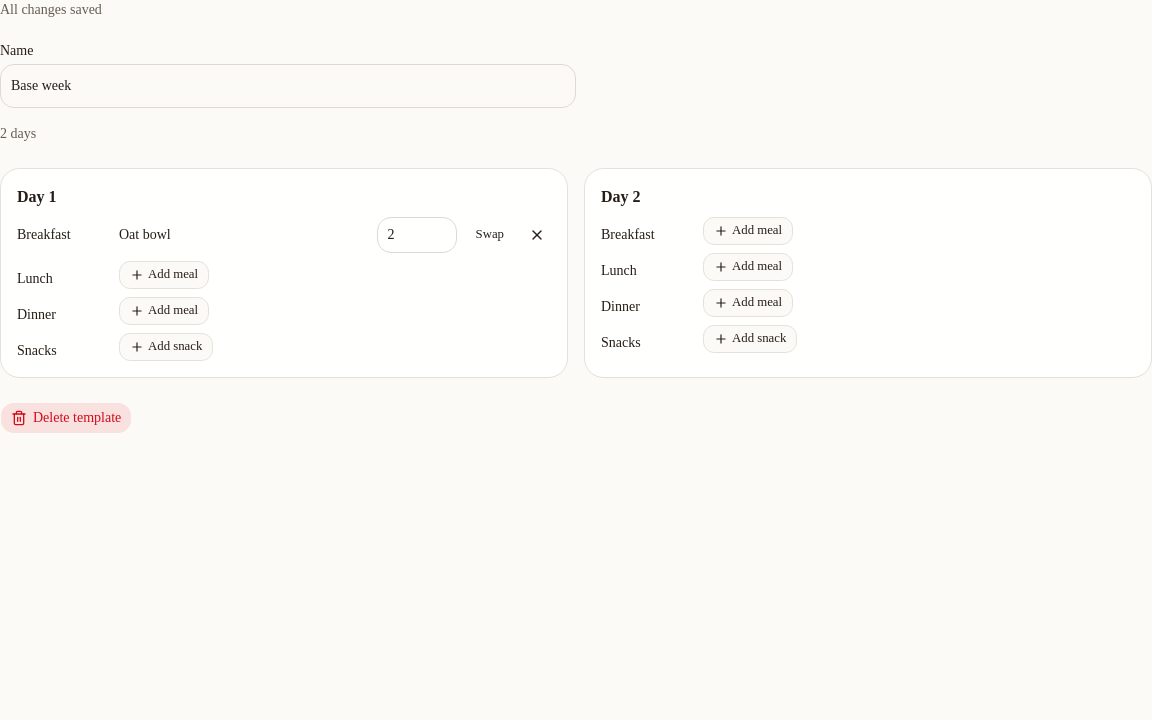
Test: TemplateEditor › lets a day hold several snacks, each with its own portion
What coordinates should you click on to do the following:
click the button with aria-label "Add snack to day 1"
I would click on:
 (166, 347)
Its box is [119,333,213,361].
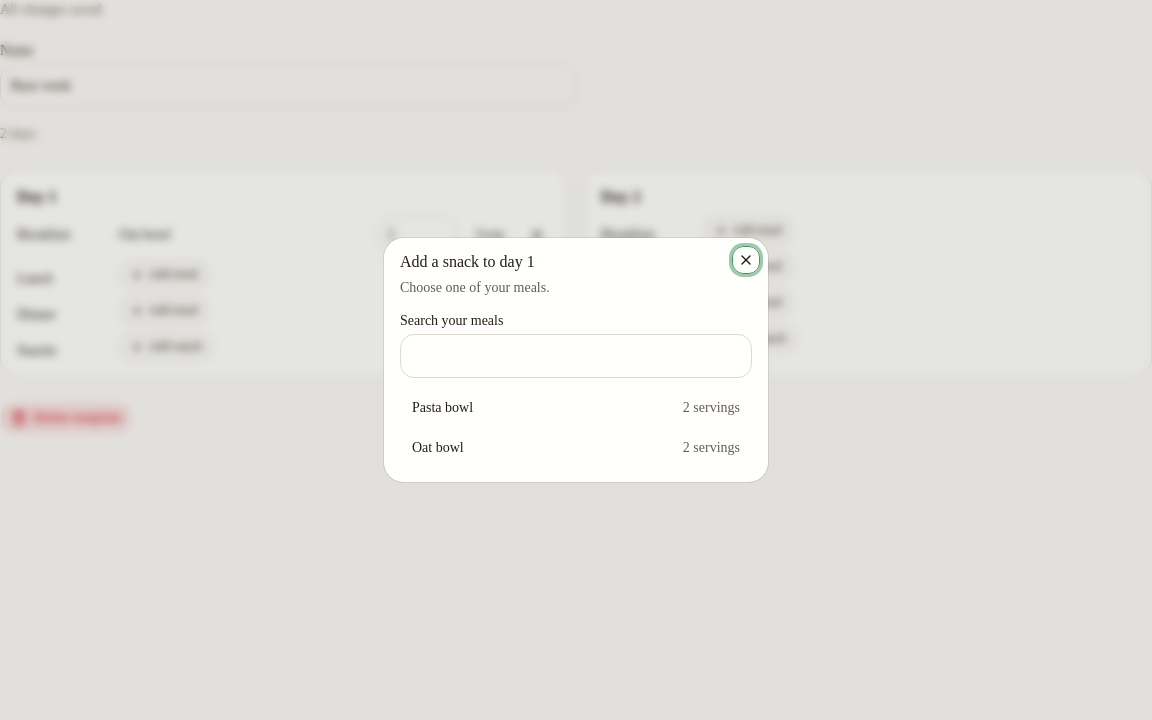
What coordinates should you click on to do the following:
click the button "Pasta bowl 2 servings"
I would click on:
 (443, 408)
Its box is [400,390,752,426].
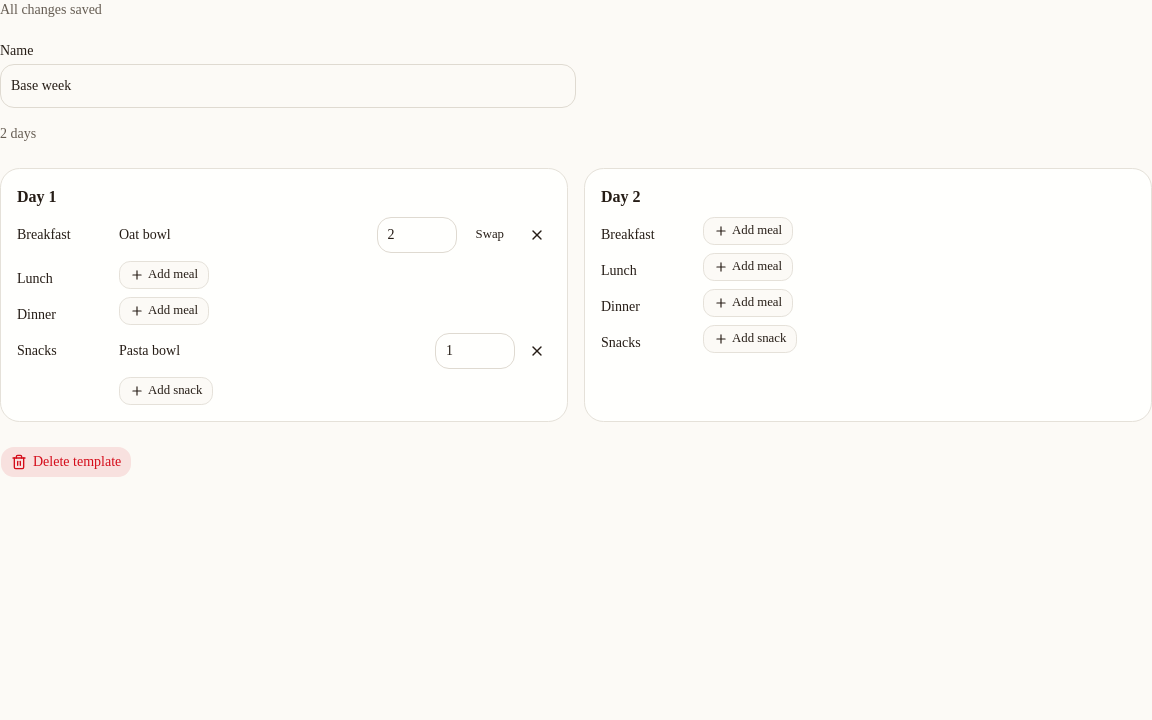
What coordinates should you click on to do the following:
click the button with aria-label "Add snack to day 1"
I would click on:
 (166, 391)
Its box is [119,377,213,405].
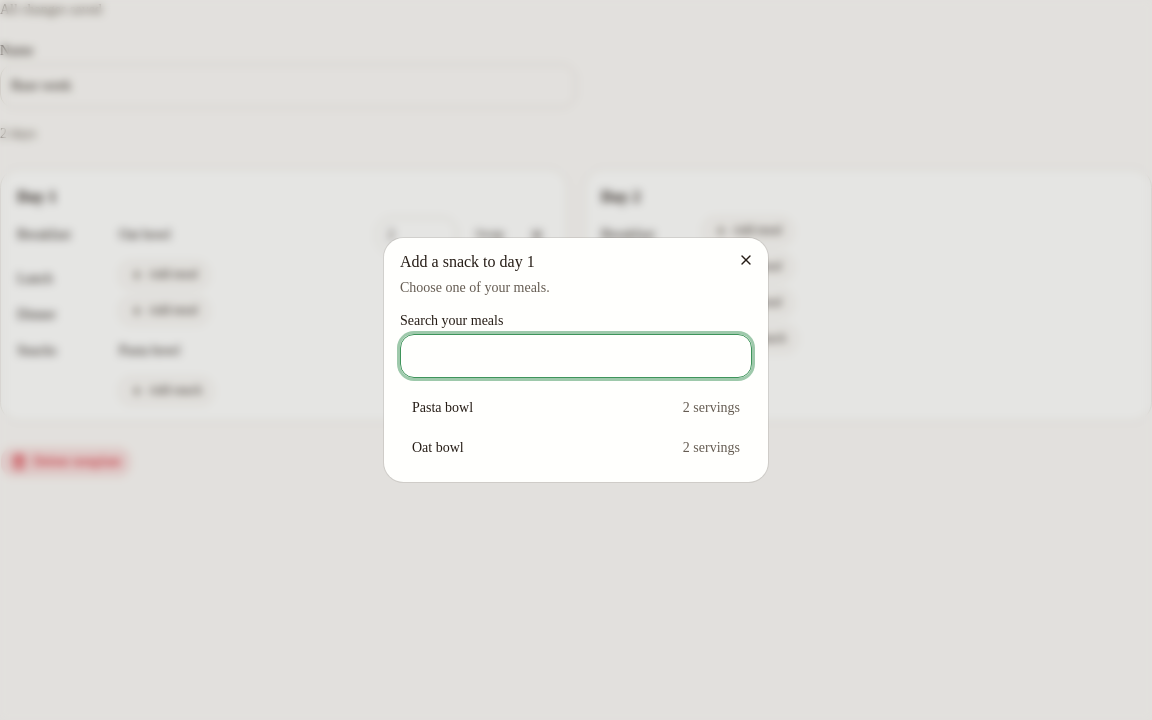
What coordinates should you click on to do the following:
click the button "Oat bowl 2 servings"
I would click on:
 (438, 448)
Its box is [400,430,752,466].
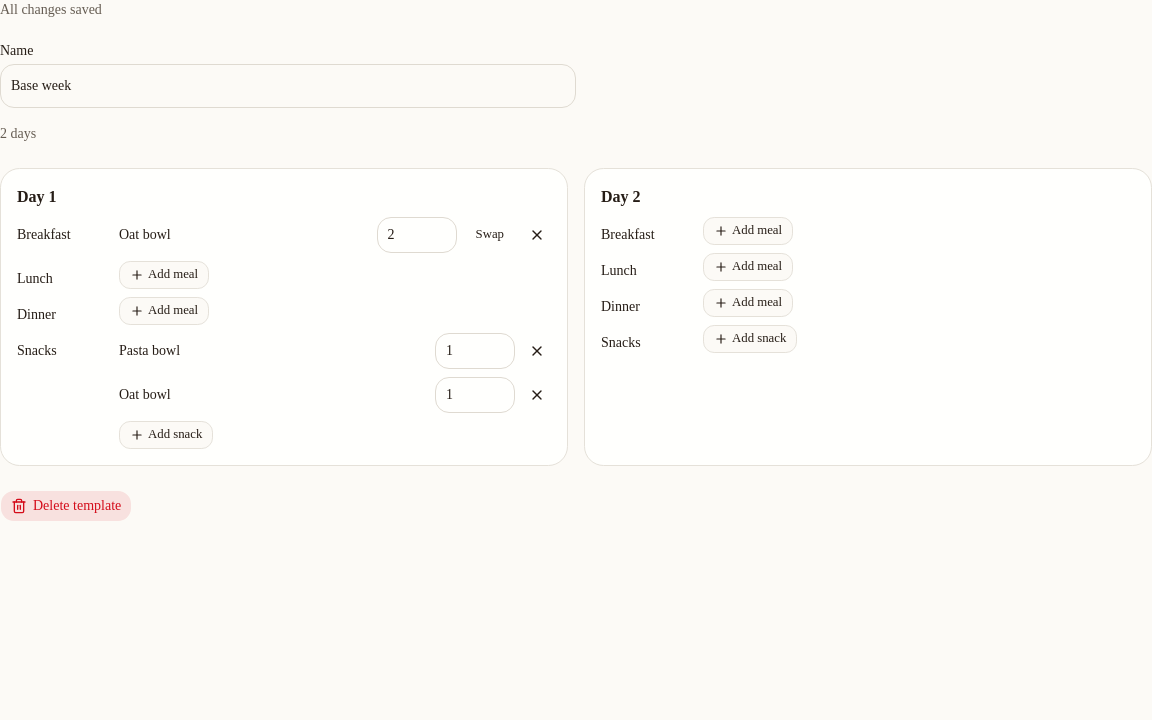
Expected: the field named "Portion of snack on day 1 (Pasta bowl)" is shown, [435,333,515,369]
Expected: the field named "Portion of snack on day 1 (Oat bowl)" is shown, [435,377,515,413]
